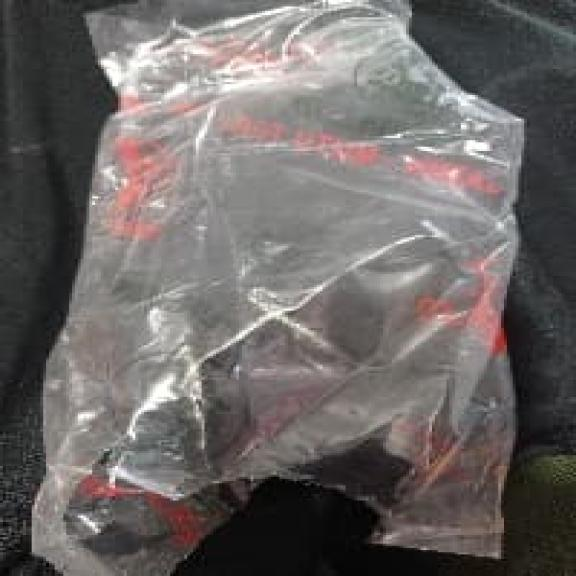Plastik: (32, 0, 521, 574)
